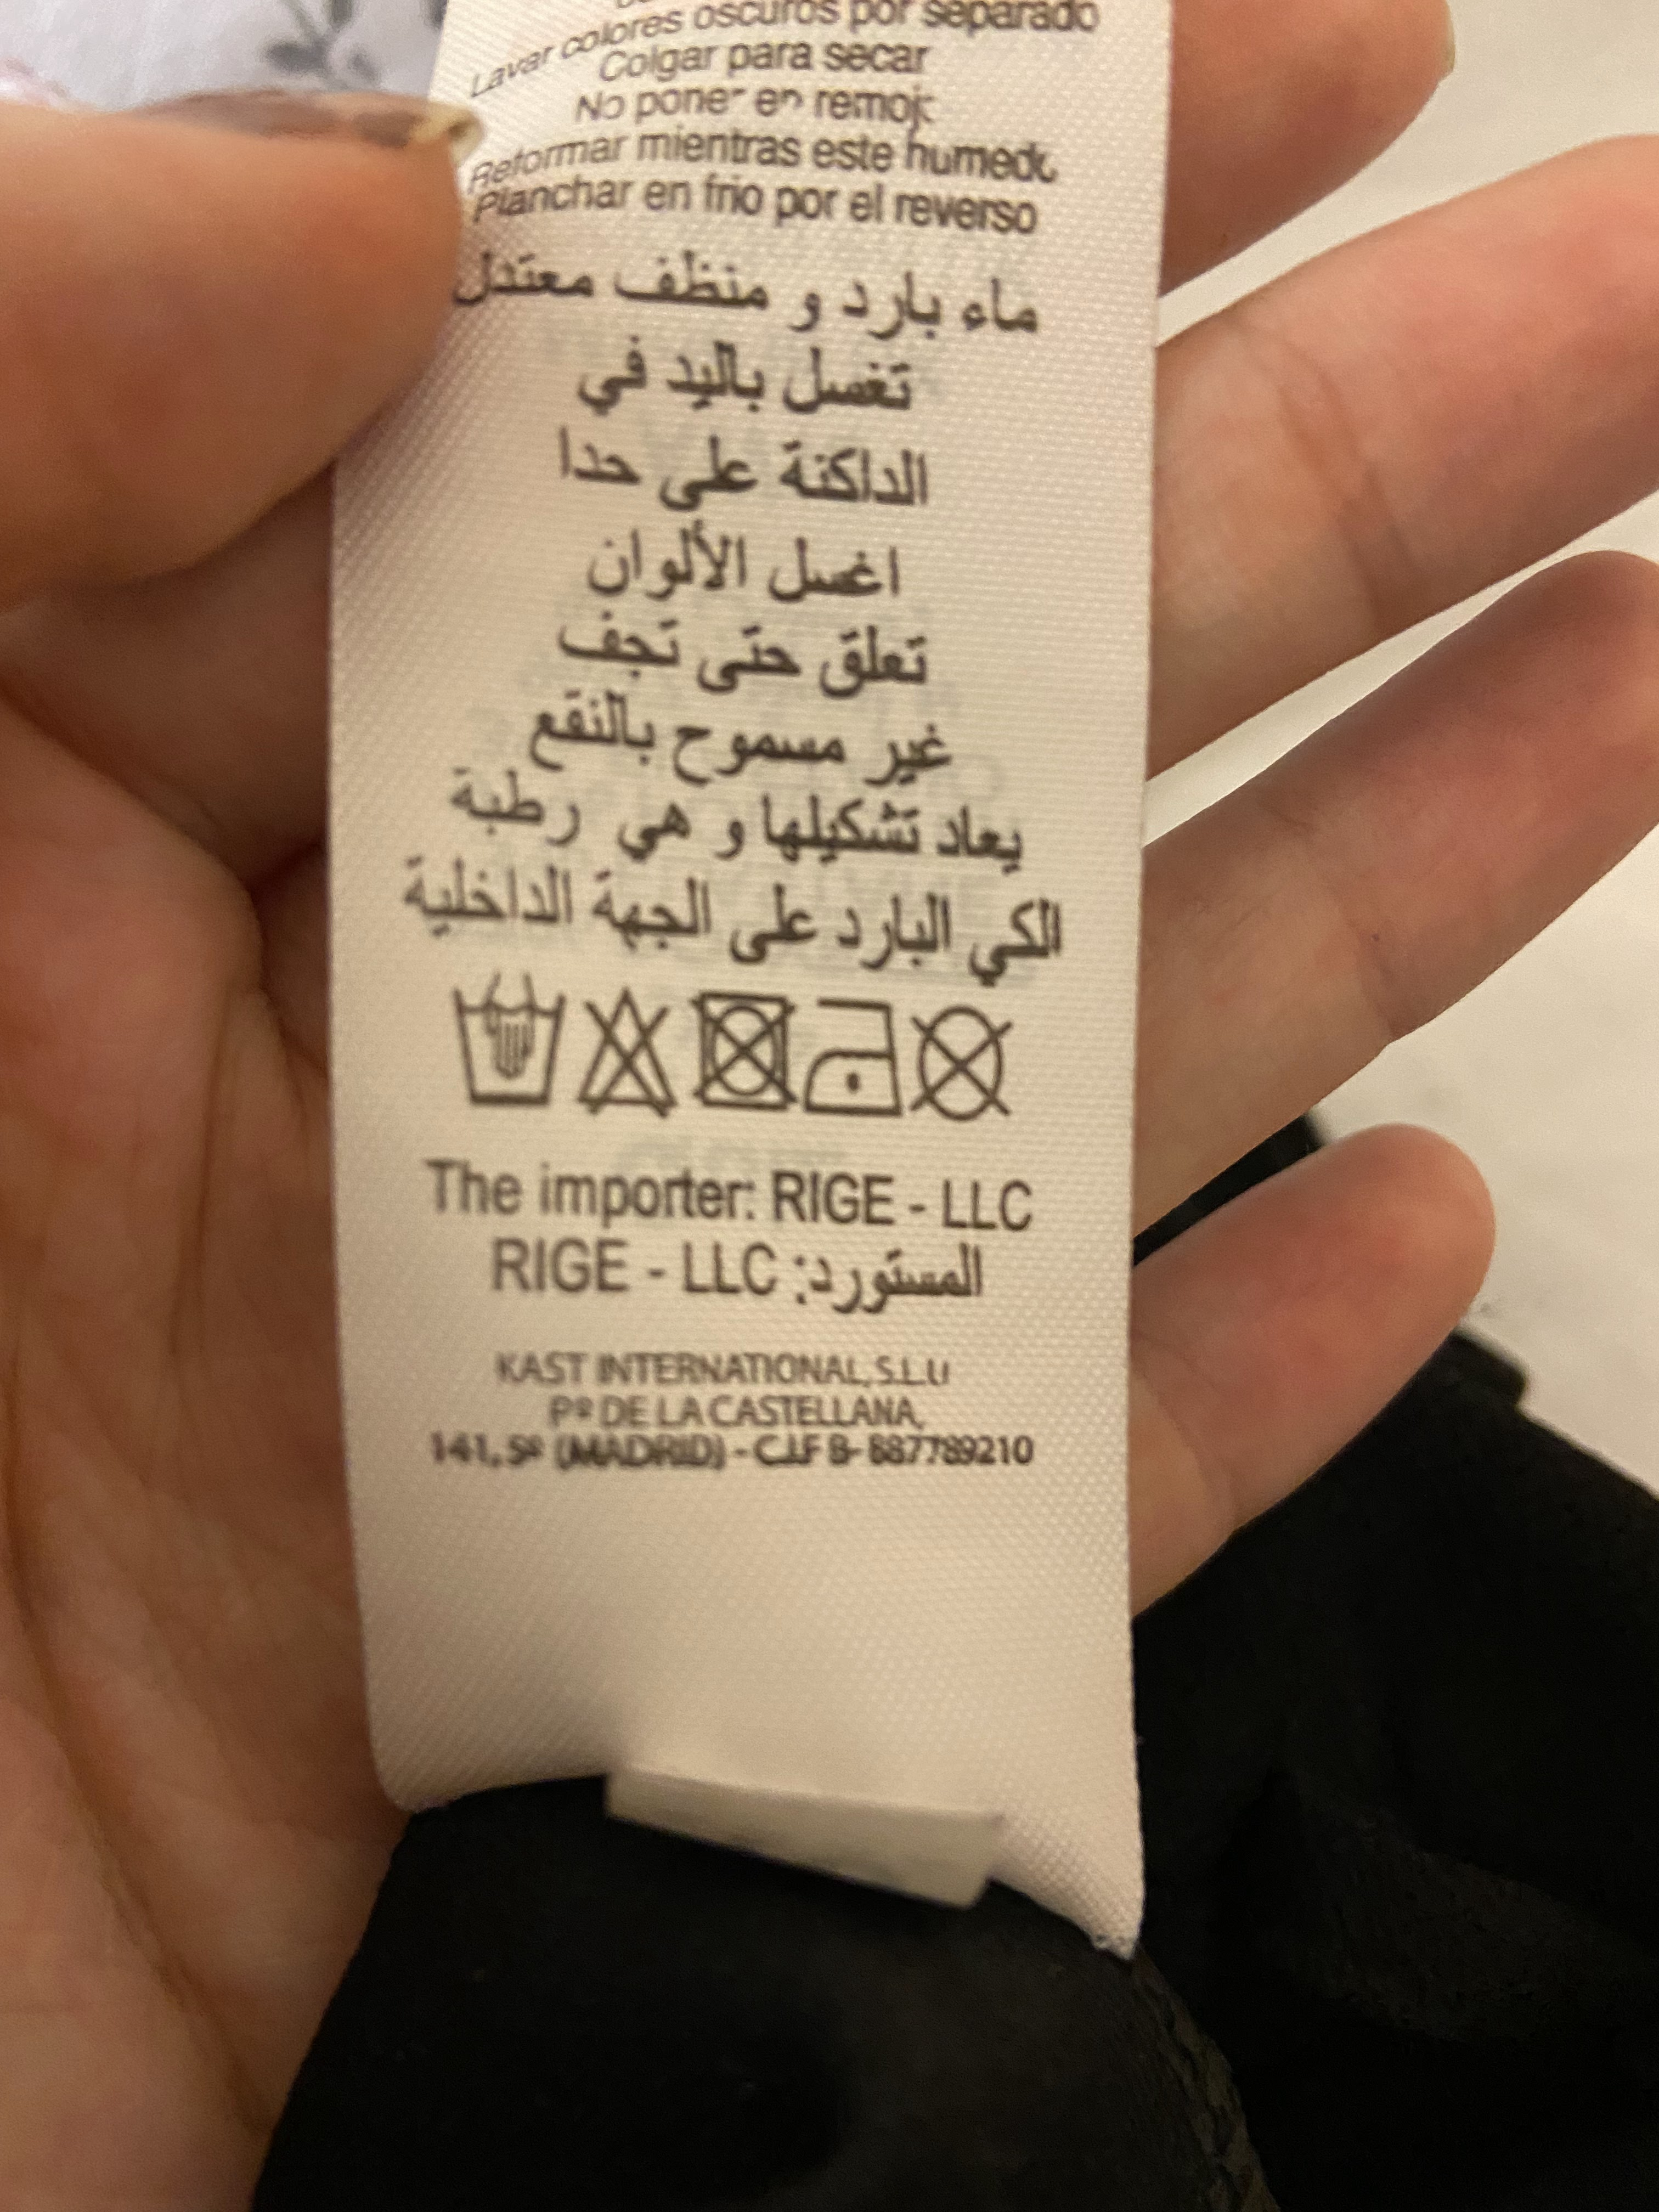do not bleach: (573, 968, 681, 1127)
do not dry clean: (910, 991, 1033, 1132)
do not tumble dry: (678, 968, 819, 1123)
handwash: (404, 972, 579, 1118)
iron low temp: (814, 986, 917, 1134)
